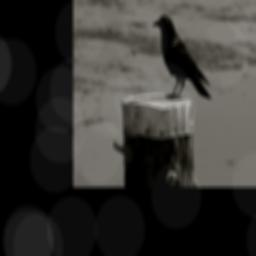Crow: (152, 12, 213, 104)
